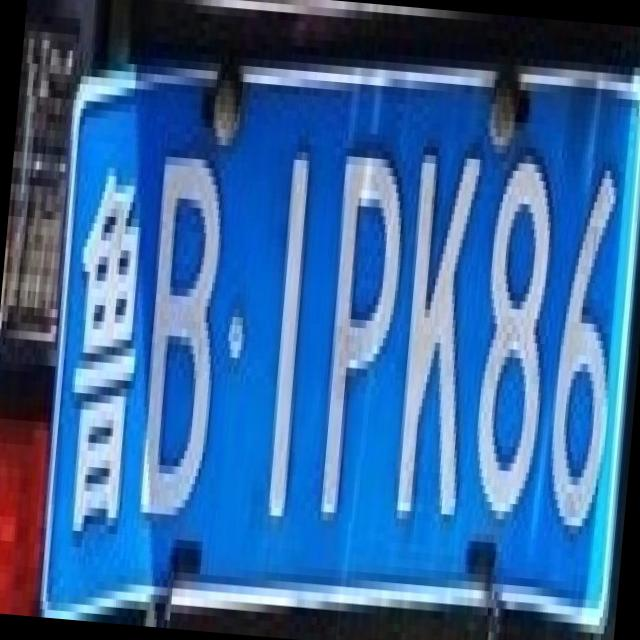6: (534, 127, 636, 528)
8: (454, 119, 564, 522)
B: (122, 122, 236, 509)
K: (378, 113, 491, 515)
L: (233, 124, 325, 525)
P: (301, 130, 414, 524)
